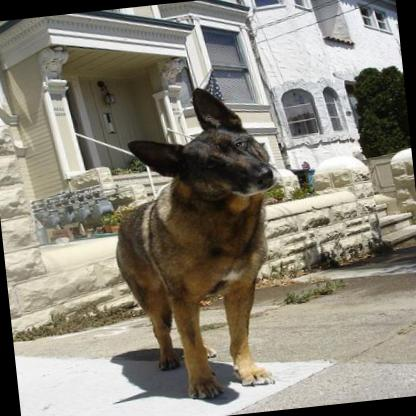malinois: (94, 77, 297, 404)
